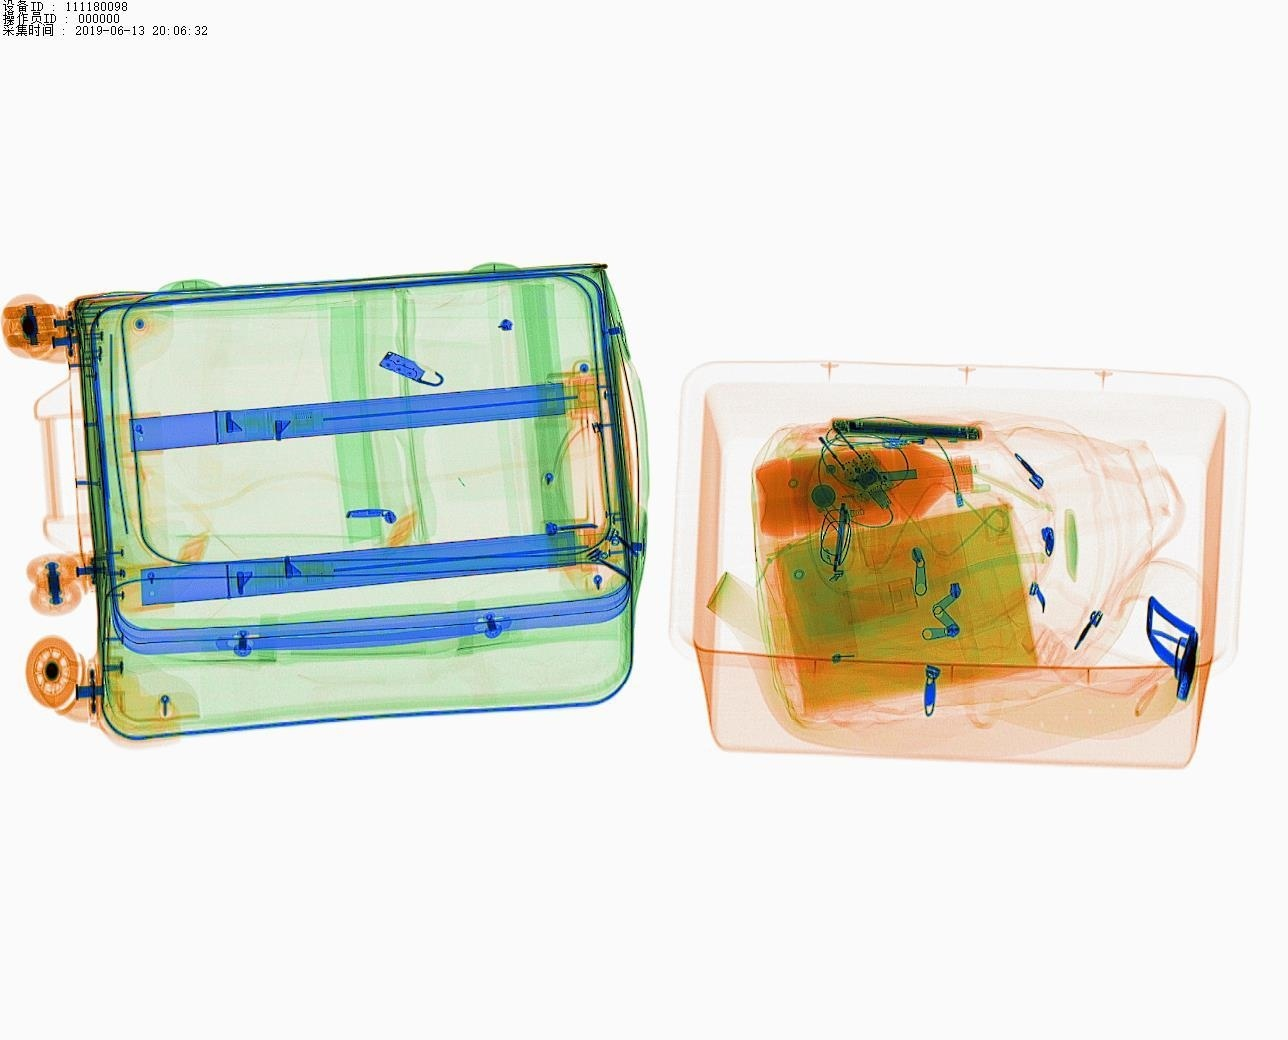NonmetallicFire: (865, 416, 1016, 464)
